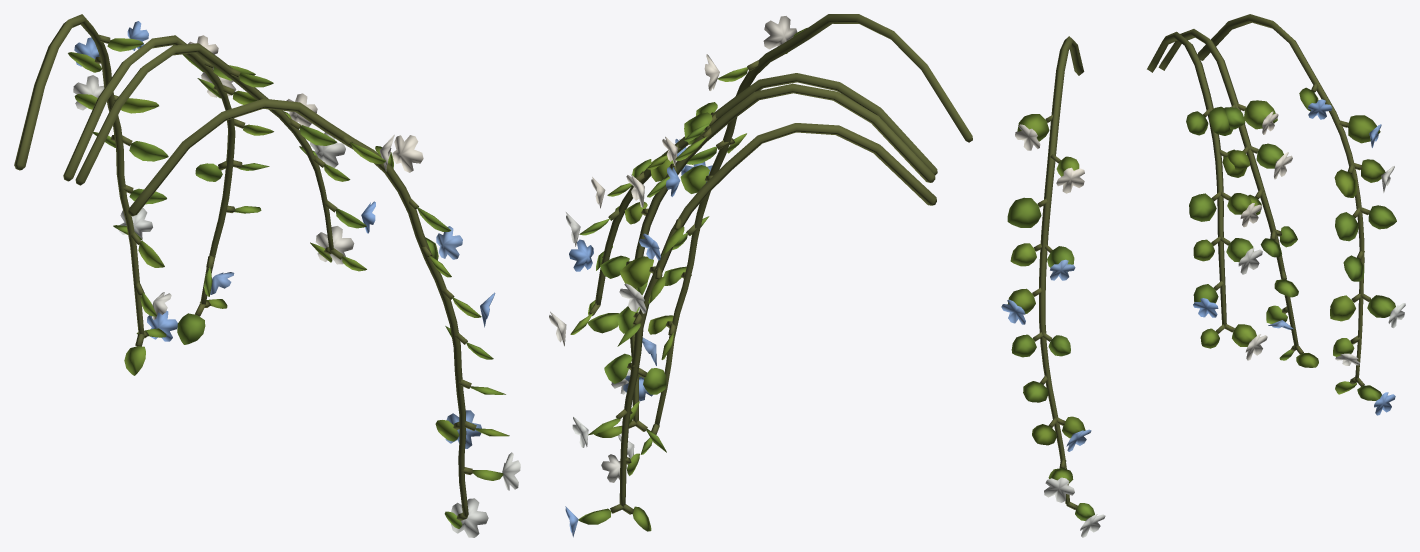
The model's file is rim_bacopa.glb.
3 views of the same model, side by side, from view 1: azimuth 30°, elevation 25°; view 2: azimuth 150°, elevation 25°; view 3: azimuth 270°, elevation 25° (orthographic). The views are drawn at different scales.
Parts seen in each view (by area): view 1: Sammel Putz, Sammel Pflanze; view 2: Sammel Putz, Sammel Pflanze; view 3: Sammel Pflanze, Sammel Putz.
Part boxes in pixels (x1,y1,x2,y2): Sammel Putz: (14,14,476,520); Sammel Pflanze: (68,21,520,537); Sammel Putz: (588,14,972,514); Sammel Pflanze: (549,16,807,537); Sammel Pflanze: (1001,87,1405,537); Sammel Putz: (1032,14,1370,509).
Bounding box in the file's own units: 0.2977 × 0.3468 × 0.3145.
